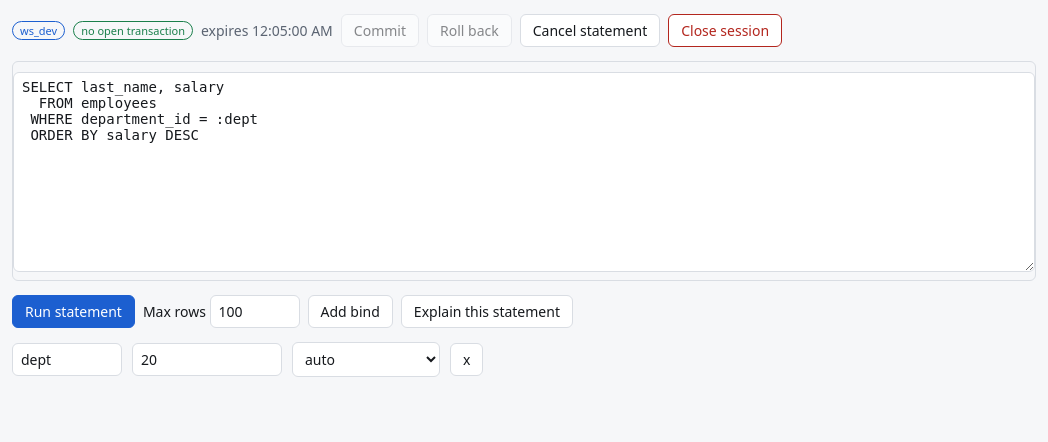
it: binding a vector › refuses 0.5, 1 as a vector without running anything
expect the text "ws_dev" is shown: met, box left=12, top=21, right=65, bottom=40
Replace the text in the field named "value of bind 1" with "0.5, 1" at (207, 360), box left=132, top=343, right=282, bottom=376
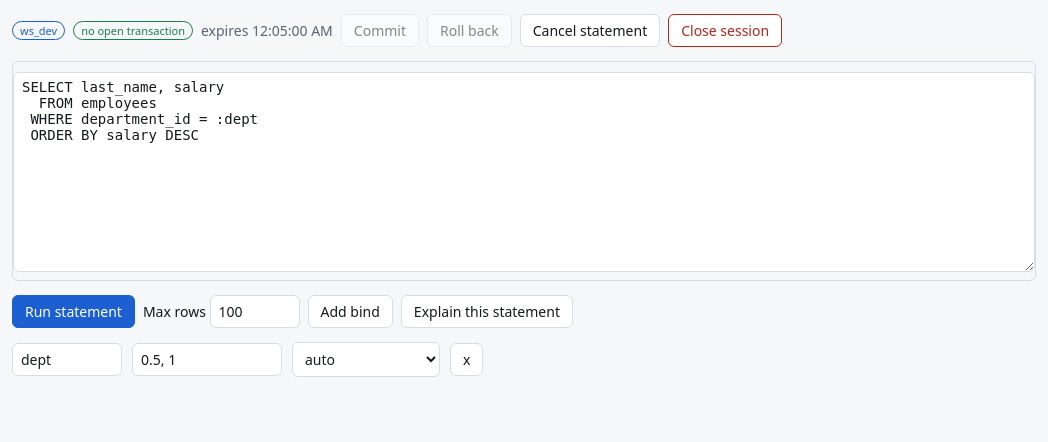
Select "vector (FLOAT32)" in the dropdown named "type of bind 1" at (366, 360), box left=292, top=342, right=440, bottom=377
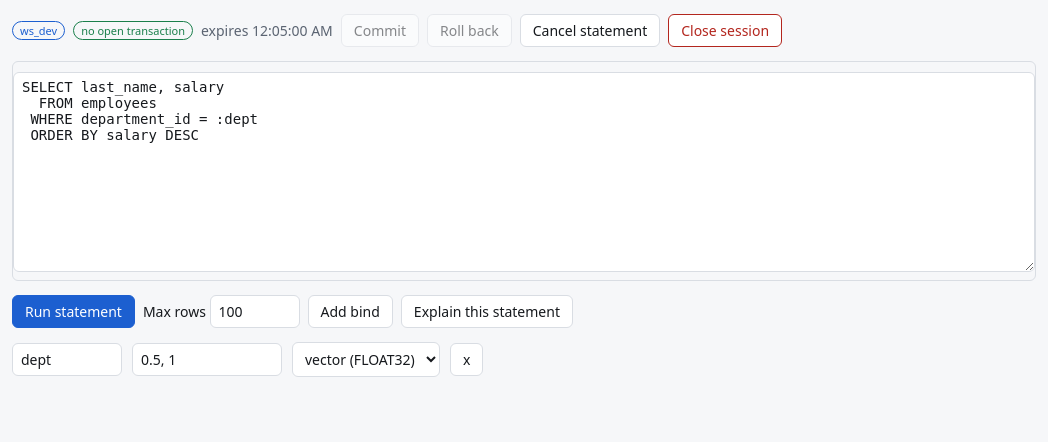
Click the button "Run statement" at (73, 312), box left=12, top=295, right=135, bottom=328
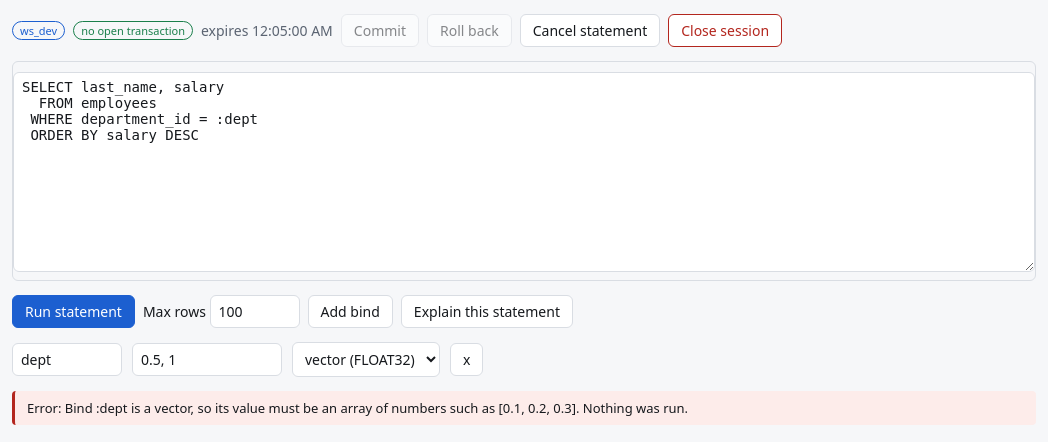
expect the text "must be an array of numbers" is shown: met, box left=27, top=399, right=688, bottom=417
